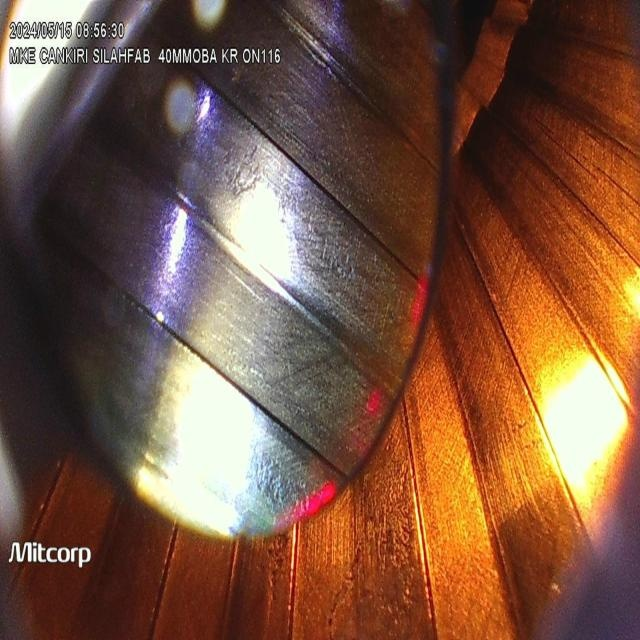hata_8.3: (221, 130, 269, 208), (304, 16, 339, 91)
